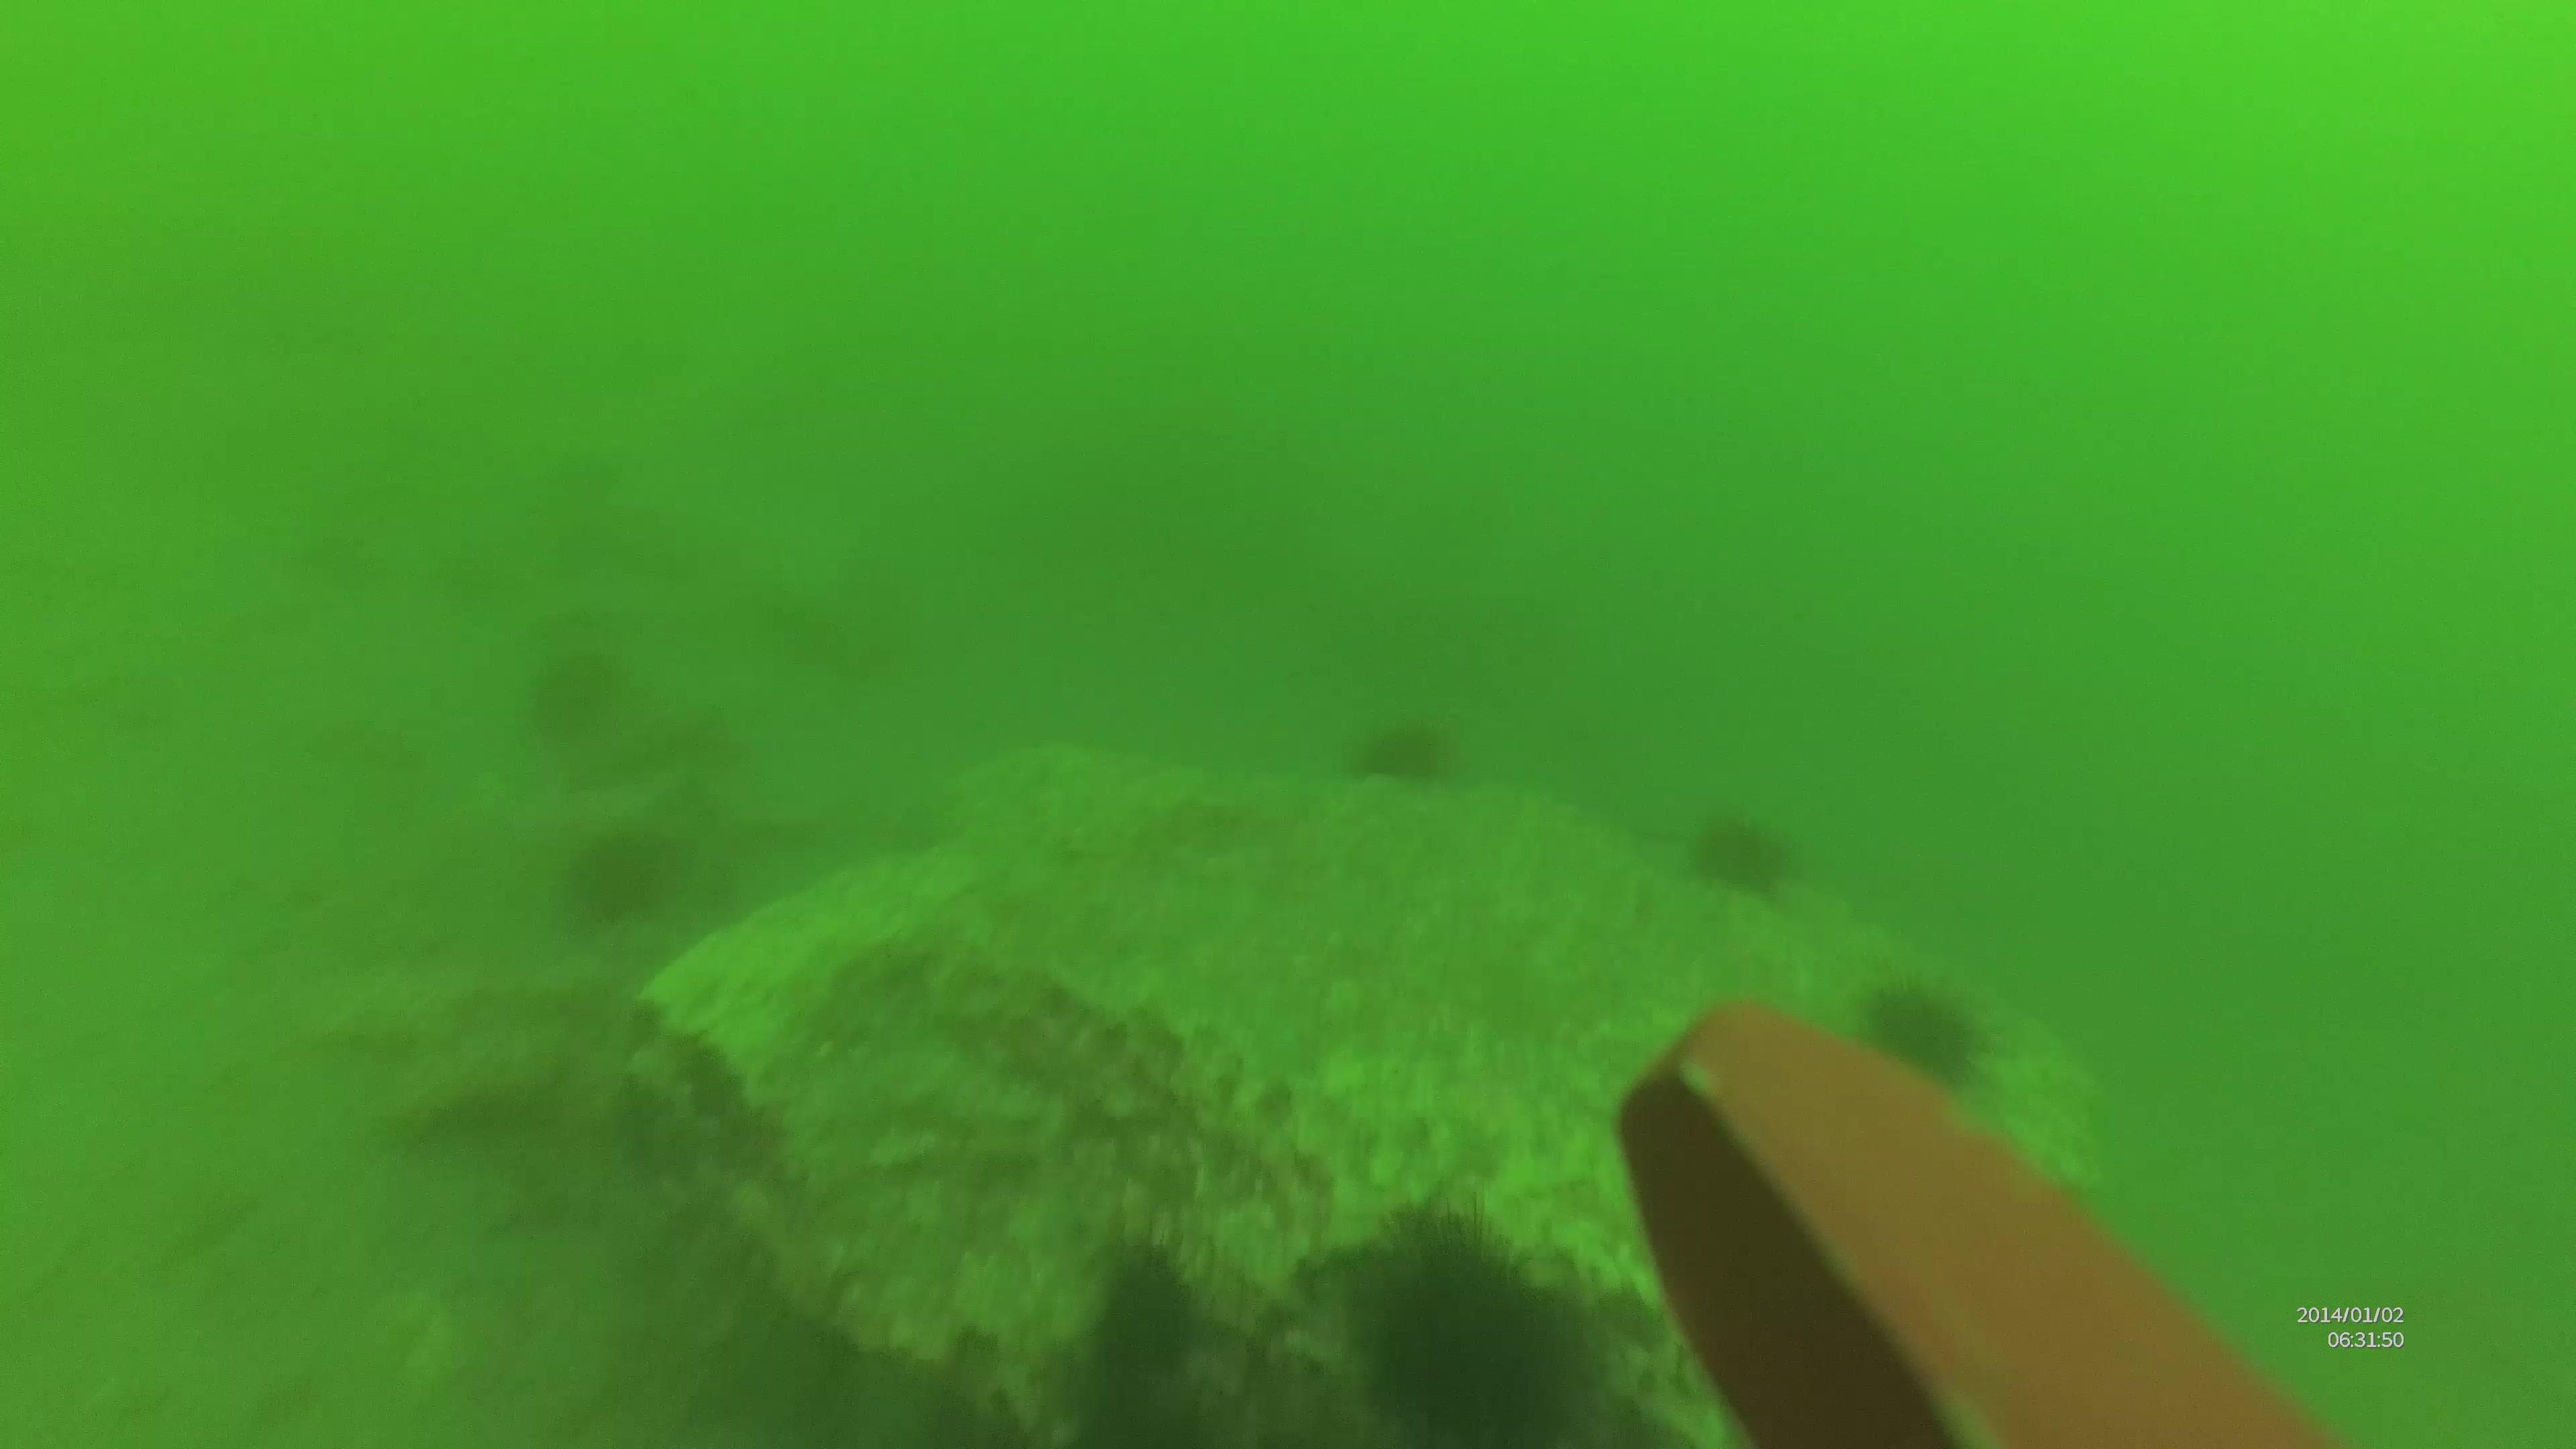echinus: (1353, 1185, 1583, 1449), (1859, 970, 1989, 1093), (1097, 1254, 1210, 1387), (1688, 809, 1808, 906), (573, 828, 685, 927), (520, 642, 617, 743), (1350, 709, 1463, 794)
